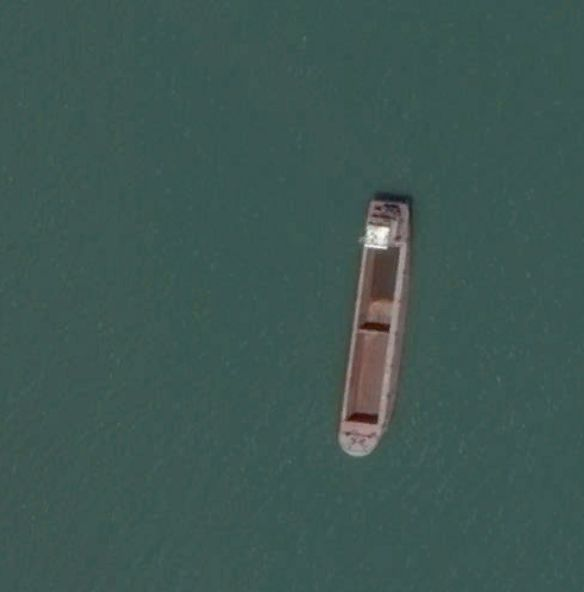boat: (336, 196, 416, 459)
